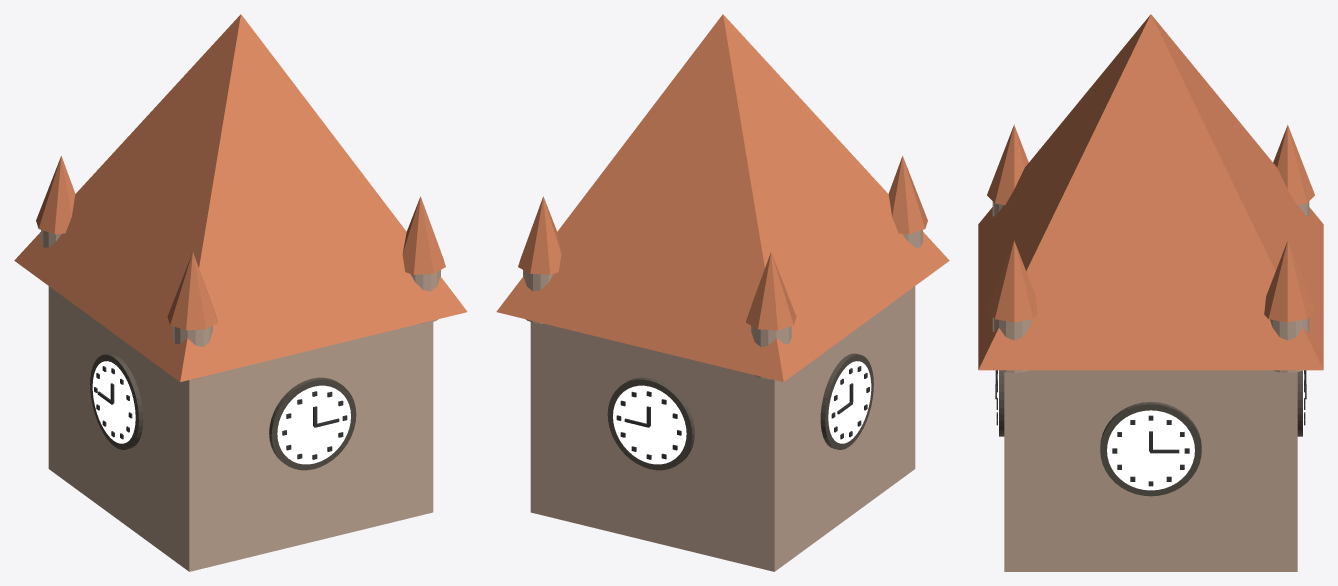
Rendered from tribune_crown.glb.
3 renders of one model, left to right at view 1: azimuth 30°, elevation 25°; view 2: azimuth 150°, elevation 25°; view 3: azimuth 270°, elevation 25°, orthographic. The views are drawn at different scales.
Visible parts, largest first — view 1: TribuneRoof, TribuneDrum, TribuneClock0, TribuneClock3, TribuneSpire-7-7, TribuneSpire7-7, TribuneBezel0, TribuneSpire-77, TribuneBezel3, TribuneTurret-7-7; view 2: TribuneRoof, TribuneDrum, TribuneClock1, TribuneClock3, TribuneSpire-77, TribuneSpire77, TribuneBezel1, TribuneSpire-7-7, TribuneBezel3, TribuneTurret-77; view 3: TribuneRoof, TribuneDrum, TribuneClock2, TribuneSpire7-7, TribuneSpire77, TribuneBezel2, TribuneSpire-7-7, TribuneSpire-77, TribuneTurret7-7, TribuneTurret77.
Part boxes in pixels (box(x1,y1,x2,y2)): TribuneRoof: box(14, 14, 467, 381); TribuneDrum: box(48, 286, 433, 571); TribuneClock0: box(277, 385, 350, 464); TribuneClock3: box(92, 361, 135, 443); TribuneSpire-7-7: box(167, 252, 217, 330); TribuneSpire7-7: box(402, 196, 445, 274); TribuneBezel0: box(269, 377, 356, 470); TribuneSpire-77: box(36, 156, 75, 234); TribuneBezel3: box(90, 353, 143, 449); TribuneTurret-7-7: box(172, 325, 212, 379); TribuneRoof: box(496, 14, 949, 381); TribuneDrum: box(530, 286, 915, 571); TribuneClock1: box(613, 385, 686, 464); TribuneClock3: box(828, 361, 871, 443); TribuneSpire-77: box(746, 252, 796, 330); TribuneSpire77: box(518, 196, 561, 274); TribuneBezel1: box(607, 377, 694, 470); TribuneSpire-7-7: box(888, 156, 927, 234); TribuneBezel3: box(820, 353, 873, 449); TribuneTurret-77: box(751, 325, 791, 379); TribuneRoof: box(978, 14, 1323, 370); TribuneDrum: box(1004, 370, 1297, 571); TribuneClock2: box(1107, 410, 1194, 490); TribuneSpire7-7: box(987, 240, 1037, 322); TribuneSpire77: box(1264, 240, 1314, 322); TribuneBezel2: box(1100, 402, 1201, 496); TribuneSpire-7-7: box(987, 124, 1028, 205); TribuneSpire-77: box(1273, 124, 1314, 205); TribuneTurret7-7: box(992, 317, 1031, 373); TribuneTurret77: box(1270, 317, 1309, 373).
Size of the model in its own units: 17.68 by 28 by 17.68.
